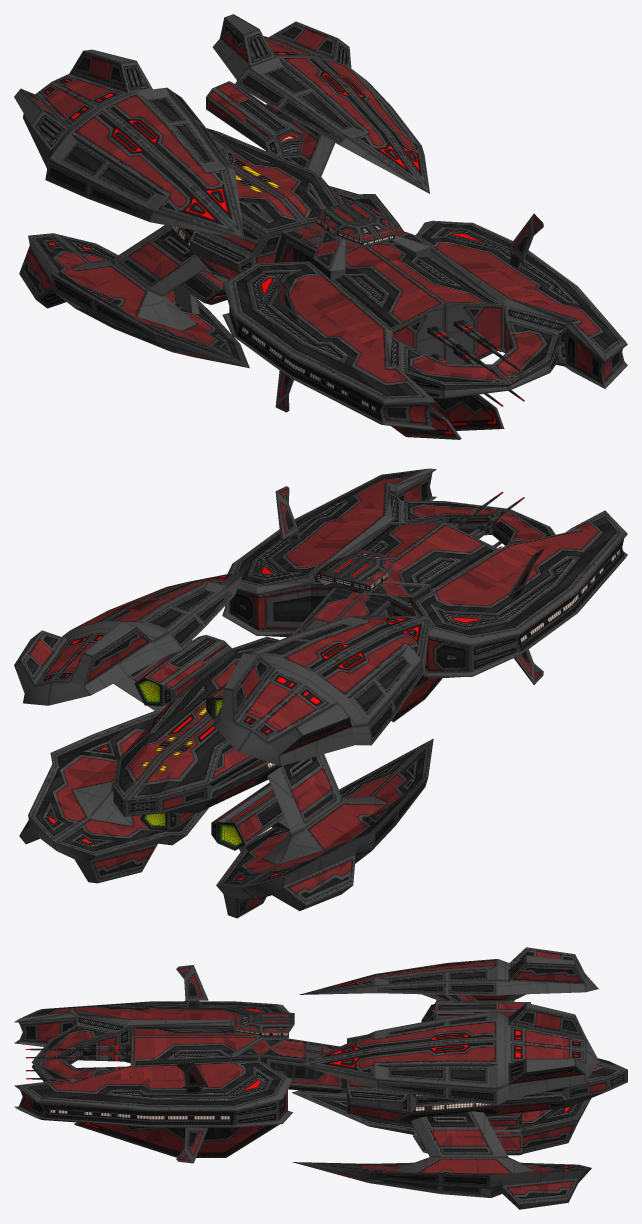
Rendered from BFP_LargeStarship04.FBX.
3 renders of one model, top to bottom at view 1: azimuth 30°, elevation 25°; view 2: azimuth 150°, elevation 25°; view 3: azimuth 270°, elevation 25°, orthographic. The views are drawn at different scales.
Parts seen in each view (by area): view 1: ForwardMainHullSection, WingShield_UpperRight, WingShield_UpperLeft, WingShield_LowerRight, RearMainHullSection, Bridge, StrutEngine_UpperLeft, MainWing_Left, StrutEngine_LowerRight, CenterHullSection, MainWing_Right, GuideWing_UpperLeft (+3 smaller); view 2: ForwardMainHullSection, WingShield_UpperRight, WingShield_LowerRight, WingShield_UpperLeft, WingShield_LowerLeft, RearMainHullSection, StrutEngine_UpperLeft, Bridge, StrutEngine_LowerRight, CenterHullSection, GuideWing_UpperLeft, MainWing_Right (+1 smaller); view 3: ForwardMainHullSection, WingShield_UpperLeft, WingShield_LowerLeft, WingShield_UpperRight, RearMainHullSection, WingShield_LowerRight, MainWing_Left, CenterHullSection, Bridge, StrutEngine_UpperRight, GuideWing_UpperRight, StrutEngine_LowerLeft (+5 smaller).
Part boxes in pixels (x1,y1,x2,y2): ForwardMainHullSection: (222,220,627,430); WingShield_UpperRight: (14,49,244,239); WingShield_UpperLeft: (212,14,429,193); WingShield_LowerRight: (19,225,249,368); RearMainHullSection: (170,128,350,279); Bridge: (312,200,431,280); StrutEngine_UpperLeft: (206,81,304,157); MainWing_Left: (431,394,504,430); StrutEngine_LowerRight: (174,268,228,314); CenterHullSection: (274,224,357,263); MainWing_Right: (391,406,461,439); GuideWing_UpperLeft: (508,213,543,268); ForwardMainHullSection: (222,468,627,678); WingShield_UpperRight: (212,616,429,766); WingShield_LowerRight: (216,738,433,918); WingShield_UpperLeft: (14,570,244,713); WingShield_LowerLeft: (19,711,208,883); RearMainHullSection: (113,636,283,816); StrutEngine_UpperLeft: (134,635,235,706); Bridge: (312,550,431,604); StrutEngine_LowerRight: (211,782,289,850); CenterHullSection: (292,587,394,634); GuideWing_UpperLeft: (275,486,300,545); MainWing_Right: (391,675,442,722); ForwardMainHullSection: (14,1001,292,1127); WingShield_UpperLeft: (298,1003,598,1105); WingShield_LowerLeft: (292,1111,591,1209); WingShield_UpperRight: (299,947,598,1003); RearMainHullSection: (347,1034,627,1124); WingShield_LowerRight: (292,1090,591,1153); MainWing_Left: (74,1122,279,1157); CenterHullSection: (259,1036,346,1093); Bridge: (231,1012,294,1061); StrutEngine_UpperRight: (421,994,530,1022); GuideWing_UpperRight: (176,965,208,1008); StrutEngine_LowerLeft: (413,1129,522,1155).
Bounding box in the file's own units: 2599 × 1917 × 5475.
Materials: 3 (3 with a texture image).
